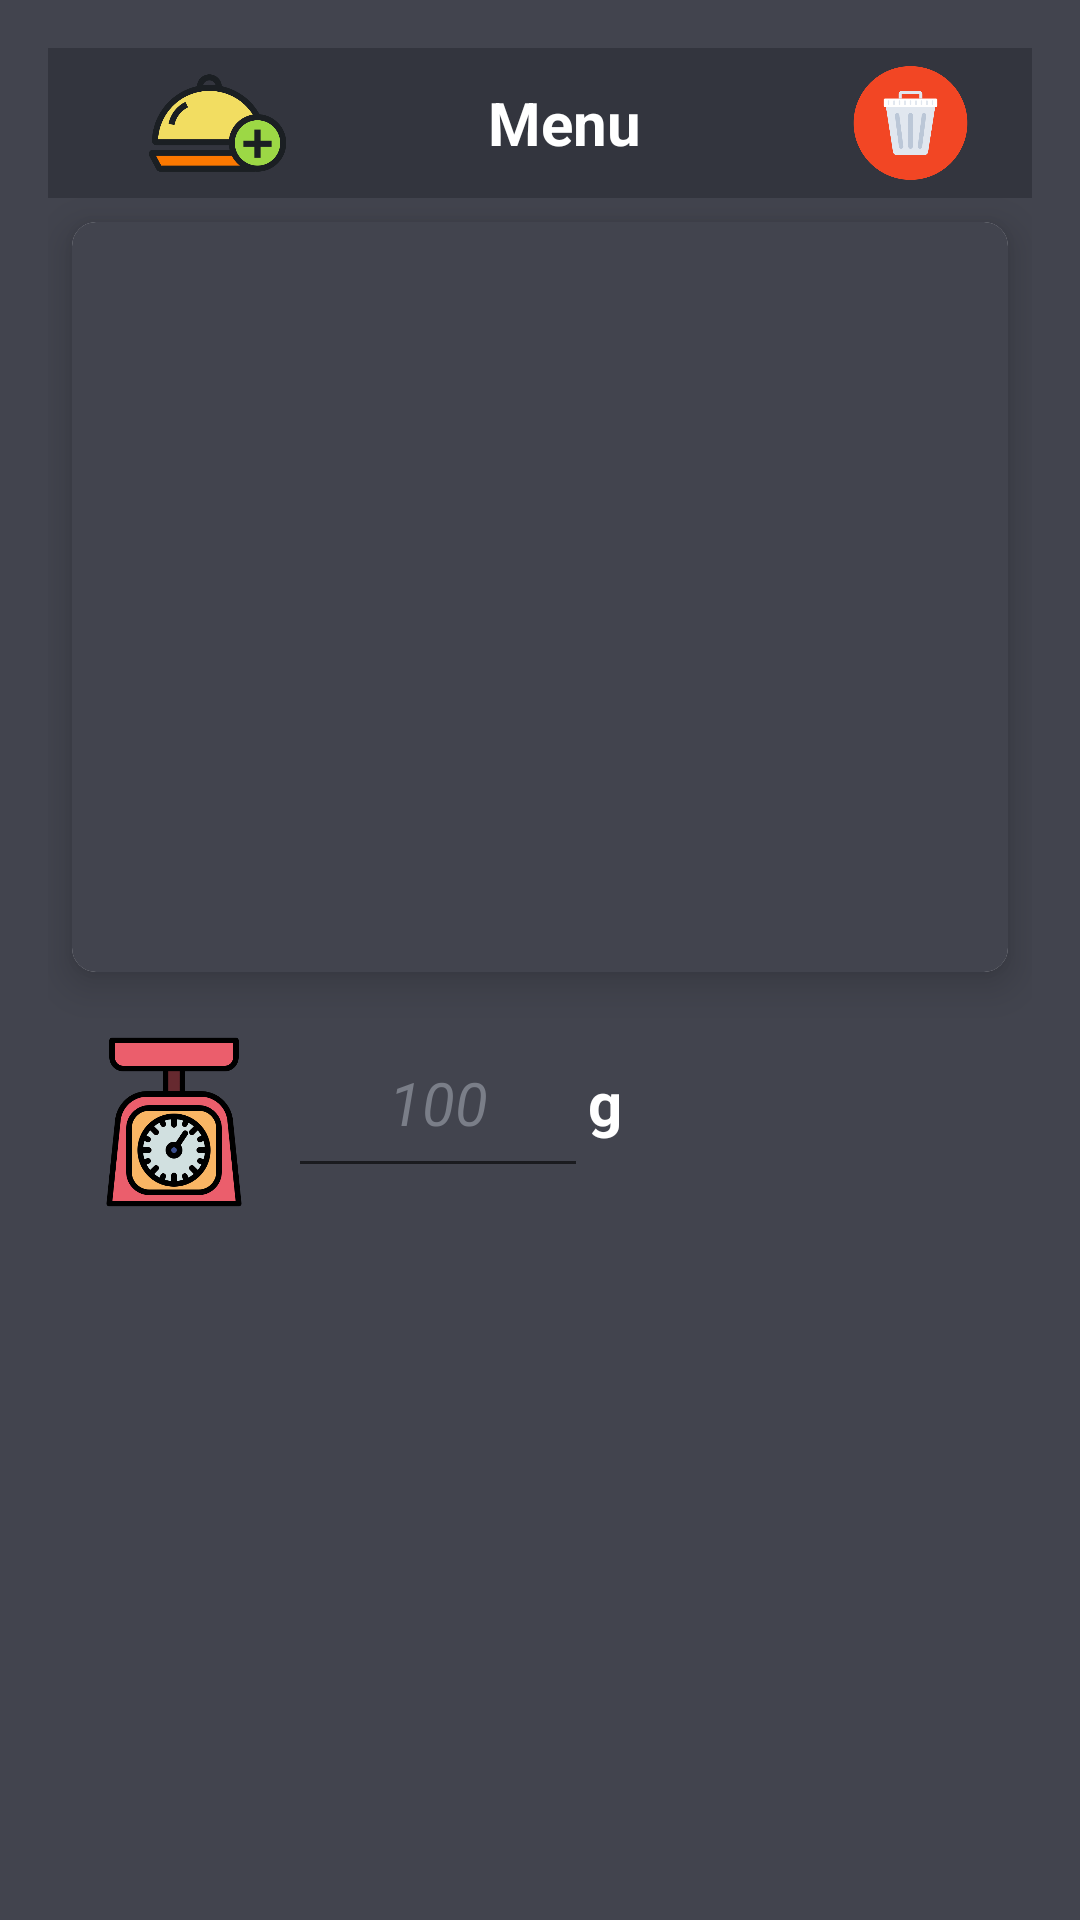

Icons on this 1080px x 1920px Android screen, each with its box as region(x1, y1, x2, y2):
delete: region(853, 66, 968, 180)
dish: region(149, 74, 286, 172)
food scale: region(106, 1038, 242, 1206)
